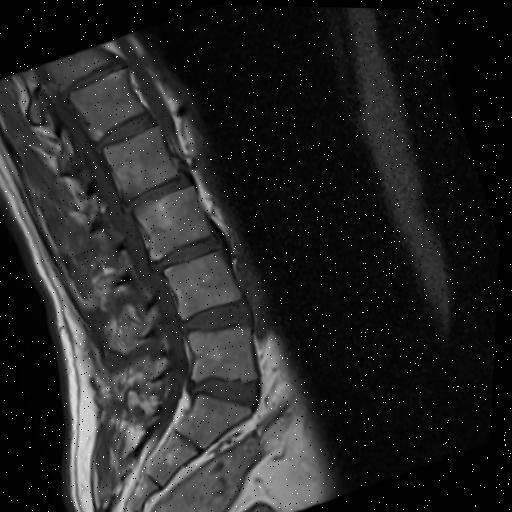L1: (72, 68, 145, 139)
L2: (106, 125, 180, 199)
L3: (135, 184, 213, 260)
L4: (168, 250, 244, 318)
L5: (191, 325, 261, 382)
S1: (181, 392, 255, 448)
